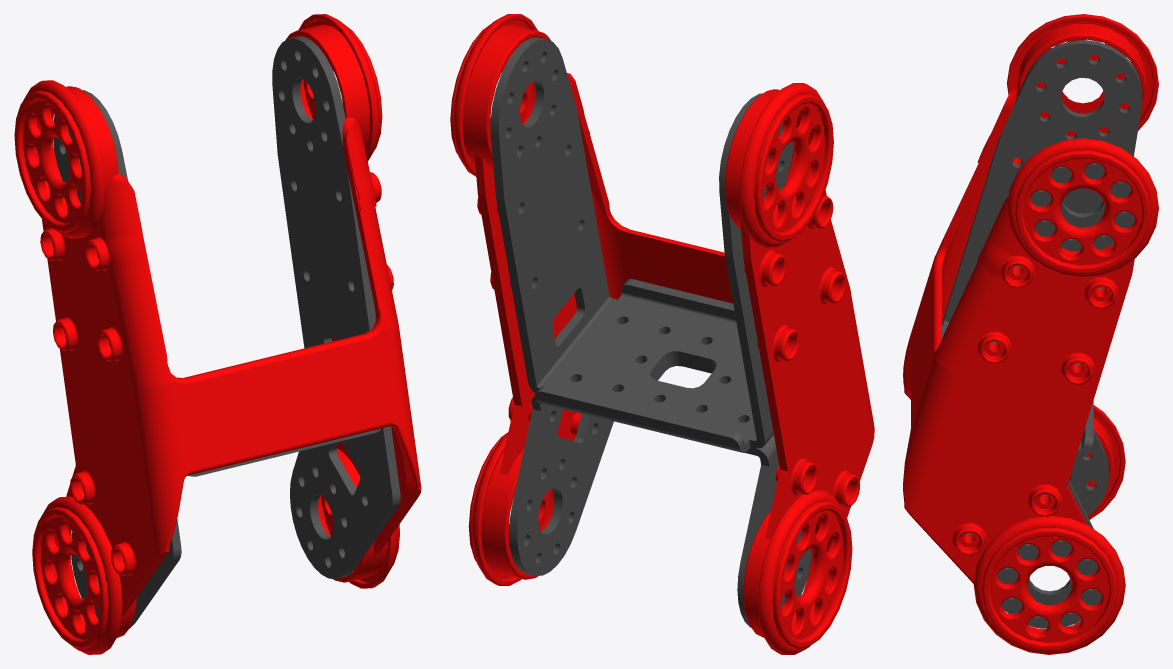
The model's file is upperleg-right.obj.
3 views of the same model, side by side, from view 1: azimuth 30°, elevation 25°; view 2: azimuth 150°, elevation 25°; view 3: azimuth 270°, elevation 25° (orthographic). The views are drawn at different scales.
Parts seen in each view (by area): view 1: Solid1; view 2: Solid1; view 3: Solid1.
Boxes of the visible parts, x1=… form: Solid1: x1=14, y1=14, x2=421, y2=654; Solid1: x1=450, y1=14, x2=874, y2=654; Solid1: x1=903, y1=14, x2=1158, y2=654.
Bounding box in the file's own units: 2.33 × 4.12 × 1.86.
